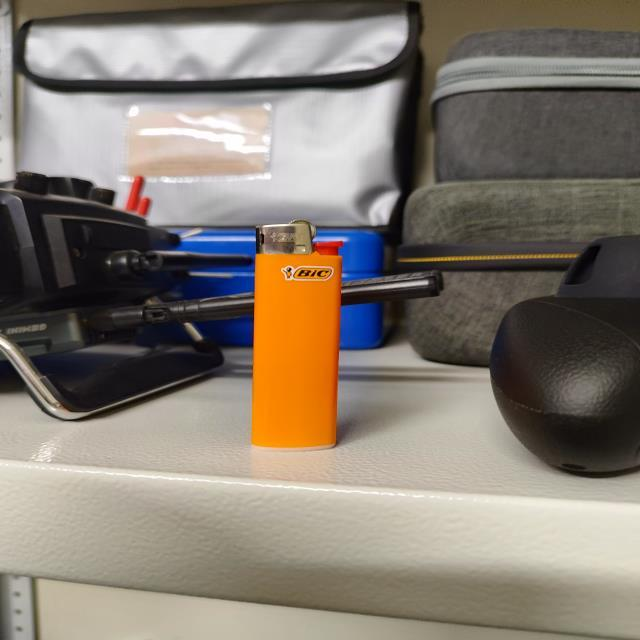lighter: (251, 218, 339, 448)
